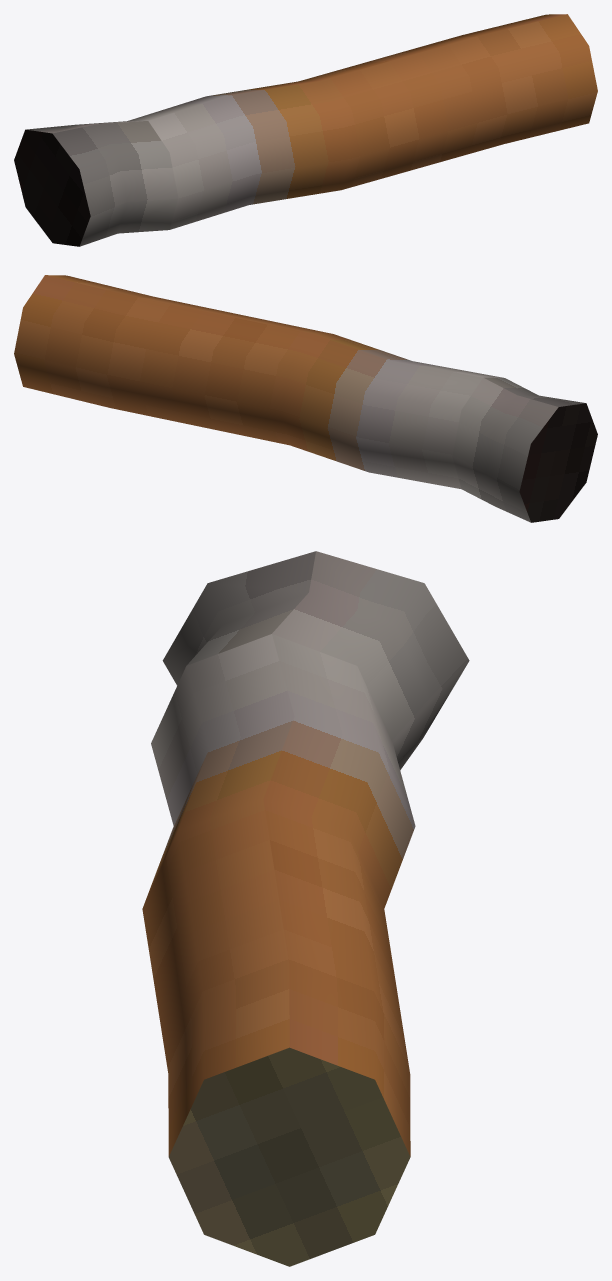
Rendered from cig_3.glb.
3 views of the same model, one above another, from view 1: azimuth 30°, elevation 25°; view 2: azimuth 150°, elevation 25°; view 3: azimuth 270°, elevation 25° (orthographic). The views are drawn at different scales.
Visible parts, largest first — view 1: cig_3; view 2: cig_3; view 3: cig_3.
Boxes of the visible parts, x1,y1,x2,y2 form: cig_3: (14, 14, 597, 246); cig_3: (14, 275, 597, 522); cig_3: (142, 551, 469, 1266).
Bounding box in the file's own units: 0.0656 × 0.0135 × 0.0183.
1 material, 1 textured.
